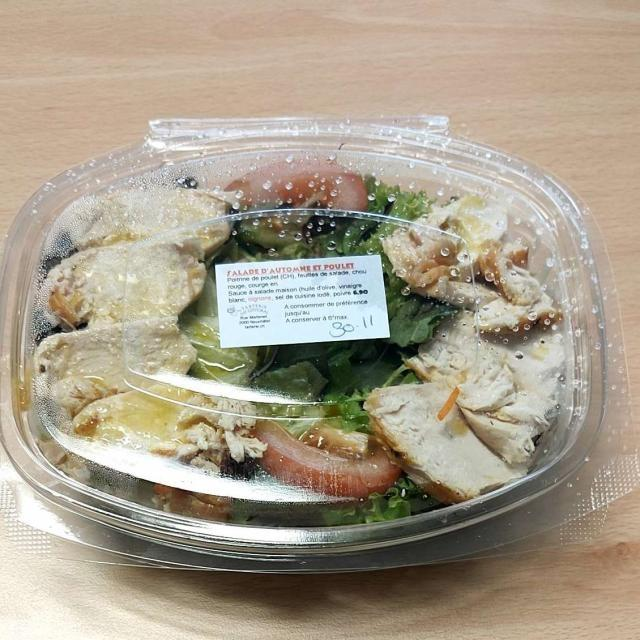chicken: (36, 174, 550, 491)
salad: (34, 158, 563, 513)
